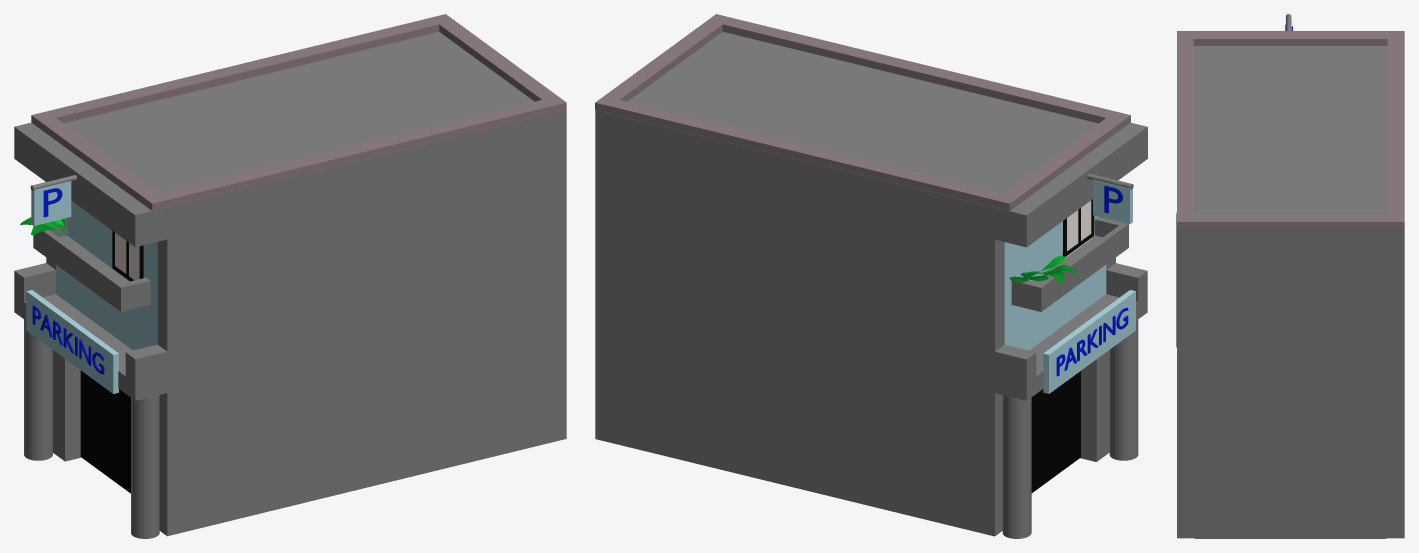
Rendered from parkingG.fbx.
3 renders of one model, left to right at view 1: azimuth 30°, elevation 25°; view 2: azimuth 150°, elevation 25°; view 3: azimuth 270°, elevation 25°, orthographic. The views are drawn at different scales.
Visible parts, largest first — view 1: Cube.006; view 2: Cube.006; view 3: Cube.006.
Boxes of the visible parts, x1,y1,x2,y2 form: Cube.006: [14, 14, 566, 538]; Cube.006: [595, 14, 1147, 538]; Cube.006: [1176, 14, 1404, 538].
Bounding box in the file's own units: 5687 × 3853 × 2516.
